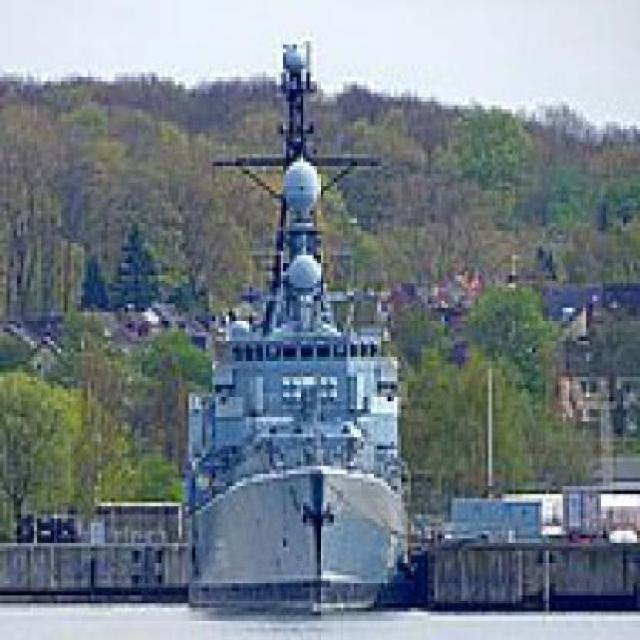warship2: (169, 29, 426, 621)
